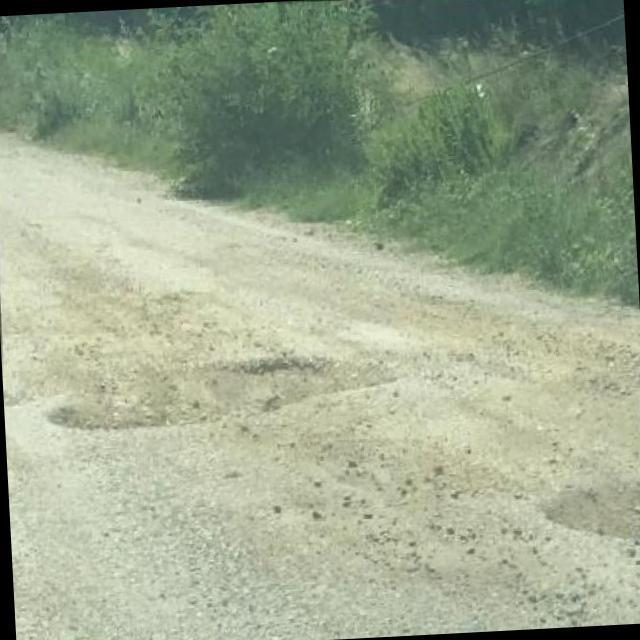Pothole: (46, 355, 386, 432), (539, 480, 640, 540)
